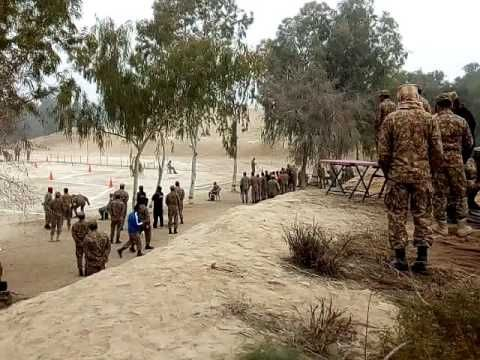uniform: (382, 85, 441, 255), (429, 92, 470, 235), (66, 203, 114, 276), (365, 81, 397, 162), (160, 179, 185, 232), (103, 185, 127, 238), (59, 183, 89, 223), (33, 183, 57, 232), (138, 194, 154, 246), (48, 186, 65, 231), (235, 169, 254, 207), (252, 156, 258, 172)
